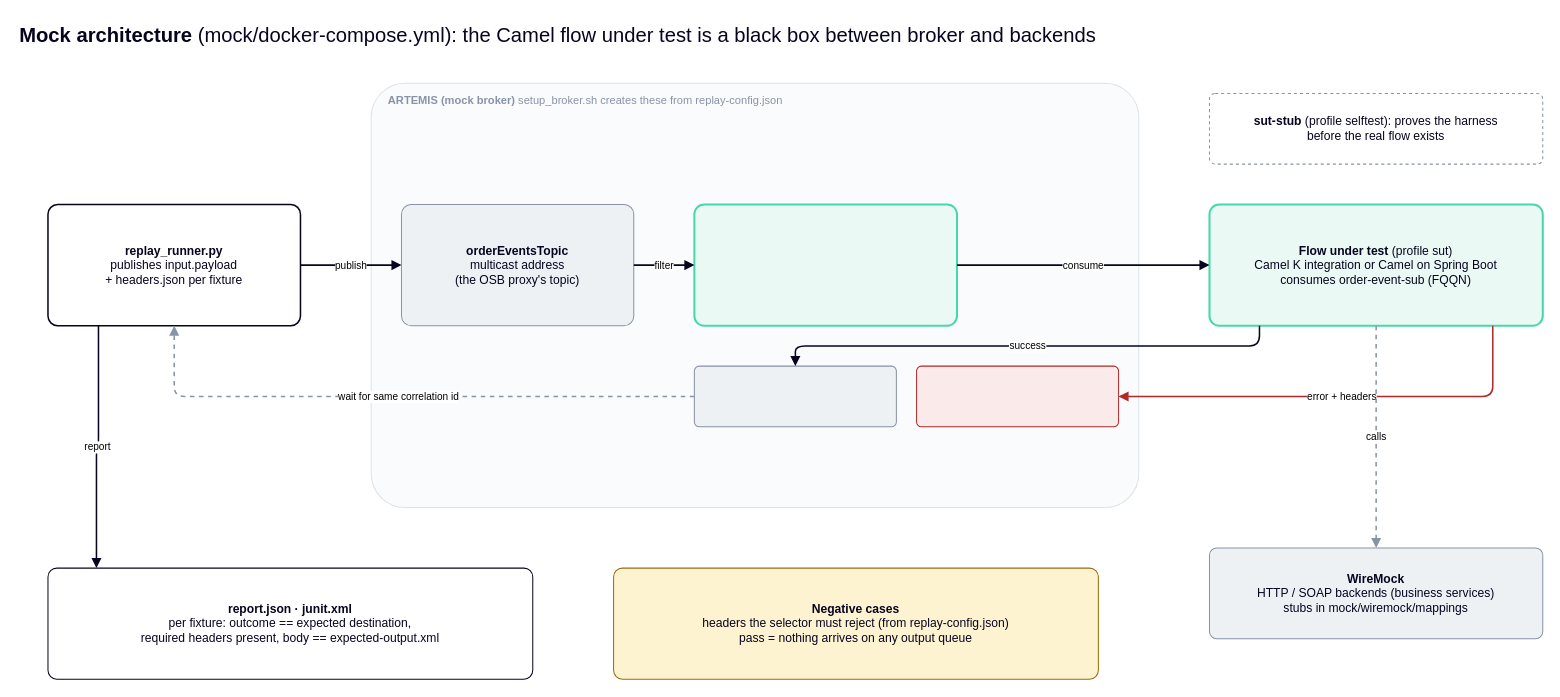
This 1560x697 diagram has some shape labels left out. The box of each missing label's shape, as (x1, y1, x2, y2) in pixels:
InboundOrderEventQueue: (693, 365, 896, 427)
order-event-sub durable subscription queue filter = the proxy's JMS selector: (693, 203, 957, 326)
orderEventErrorQueue: (916, 365, 1119, 427)
